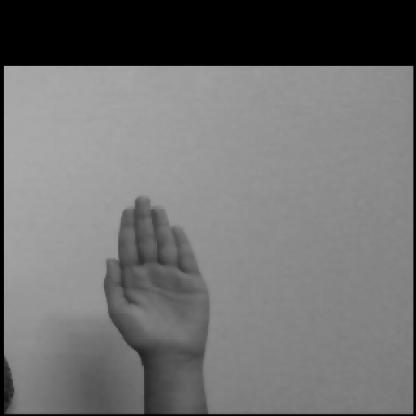palm: (87, 198, 260, 376)
